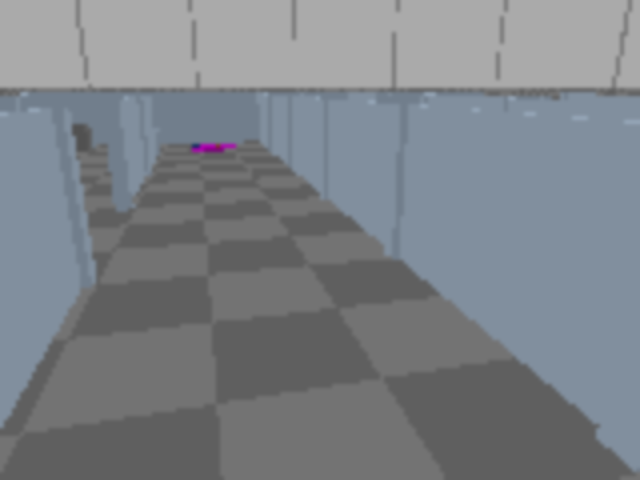goal_zone: (194, 145, 236, 151)
